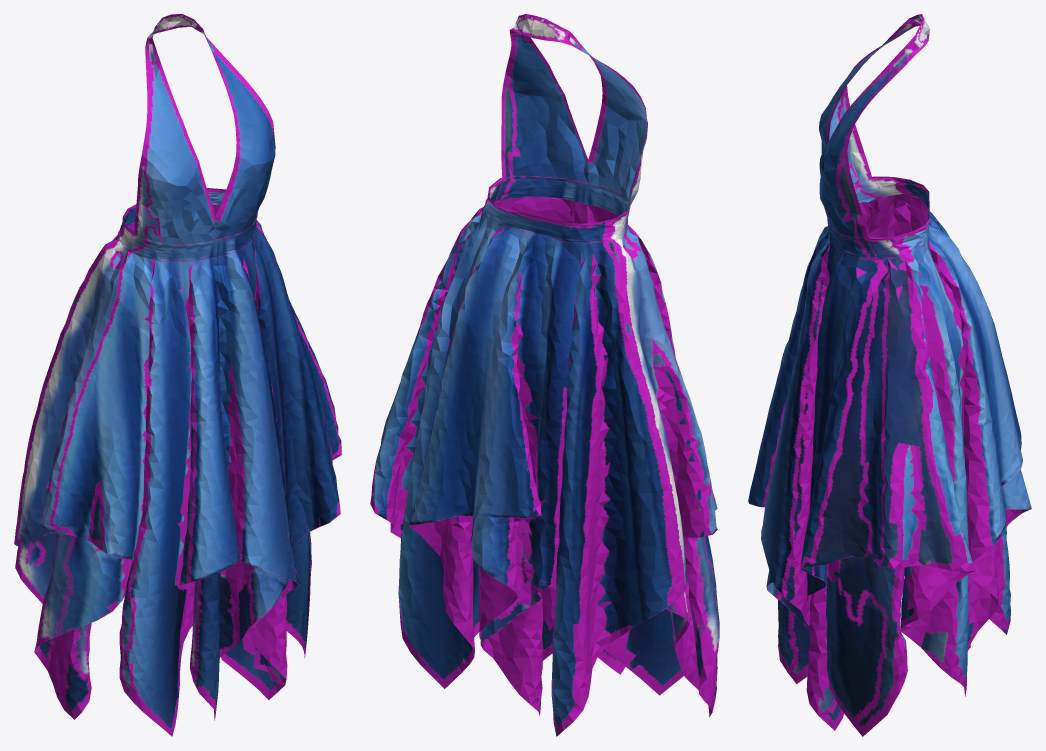
3 renders of one model, left to right at view 1: azimuth 30°, elevation 25°; view 2: azimuth 150°, elevation 25°; view 3: azimuth 270°, elevation 25°, orthographic. The views are drawn at different scales.
Bounding box in the file's own units: 0.4802 × 1 × 0.3762.
Materials: 1 (1 with a texture image).
